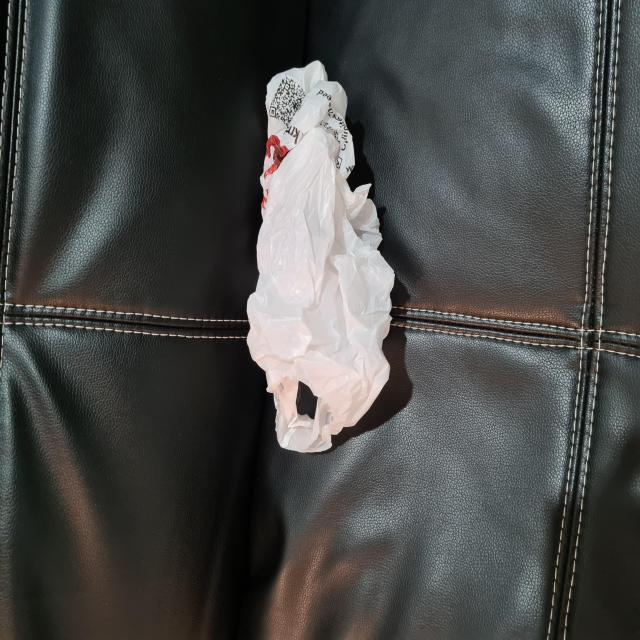plastic bag: (138, 324, 436, 526)
